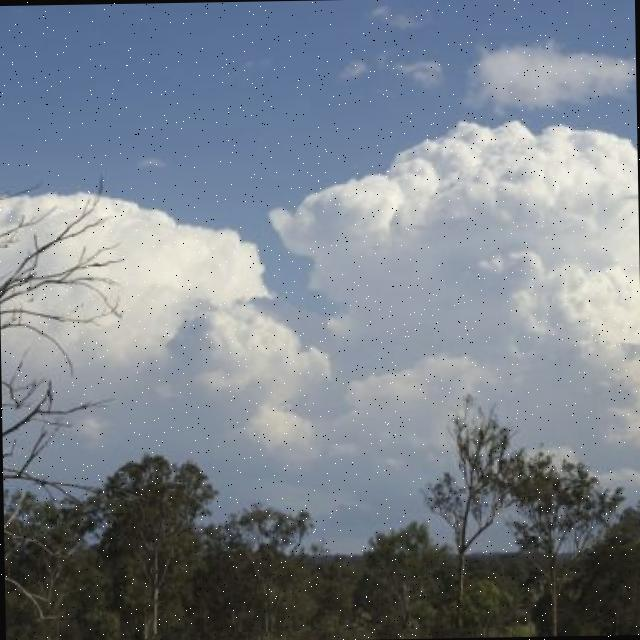Cb: (163, 32, 612, 382)
